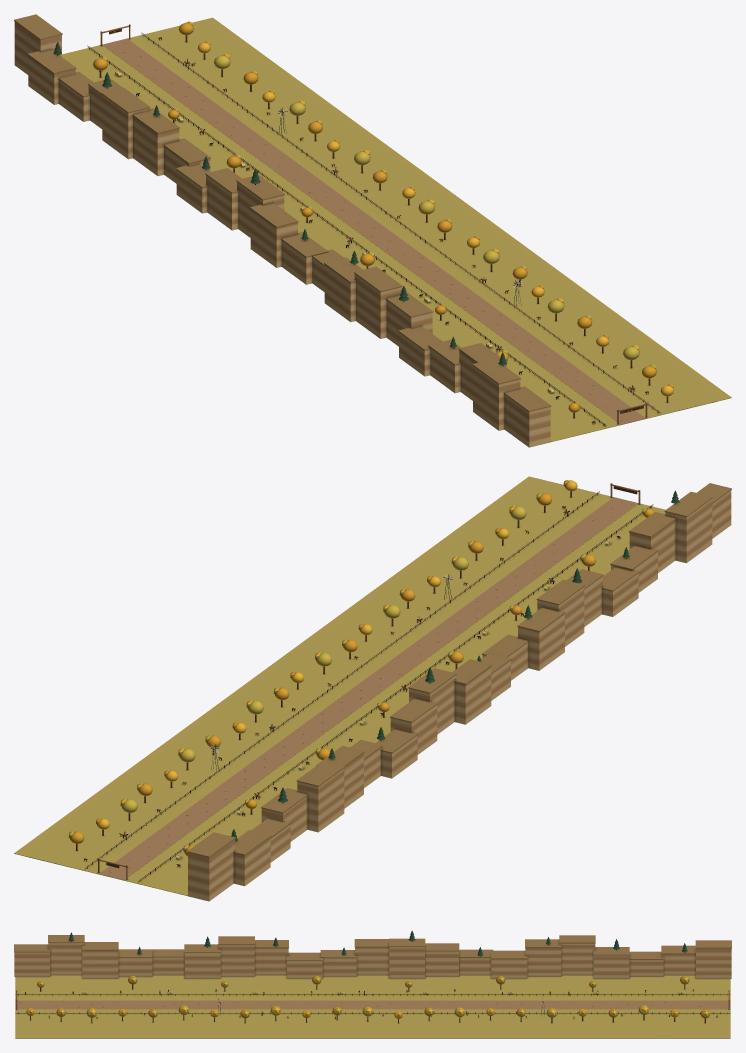
The model's file is pradera_arreo.glb.
The picture shows the model from 3 angles, top to bottom: view 1: azimuth 30°, elevation 25°; view 2: azimuth 150°, elevation 25°; view 3: azimuth 270°, elevation 25°; orthographic projection. The views are drawn at different scales.
Parts seen in each view (by area): view 1: pradera_arreo; view 2: pradera_arreo; view 3: pradera_arreo.
Boxes of the visible parts, x1,y1,x2,y2 form: pradera_arreo: (14,14,731,447); pradera_arreo: (14,476,731,901); pradera_arreo: (14,930,731,1038).
Bounding box in the file's own units: 97.79 × 28.96 × 421.
Materials: 1 (1 with a texture image).
